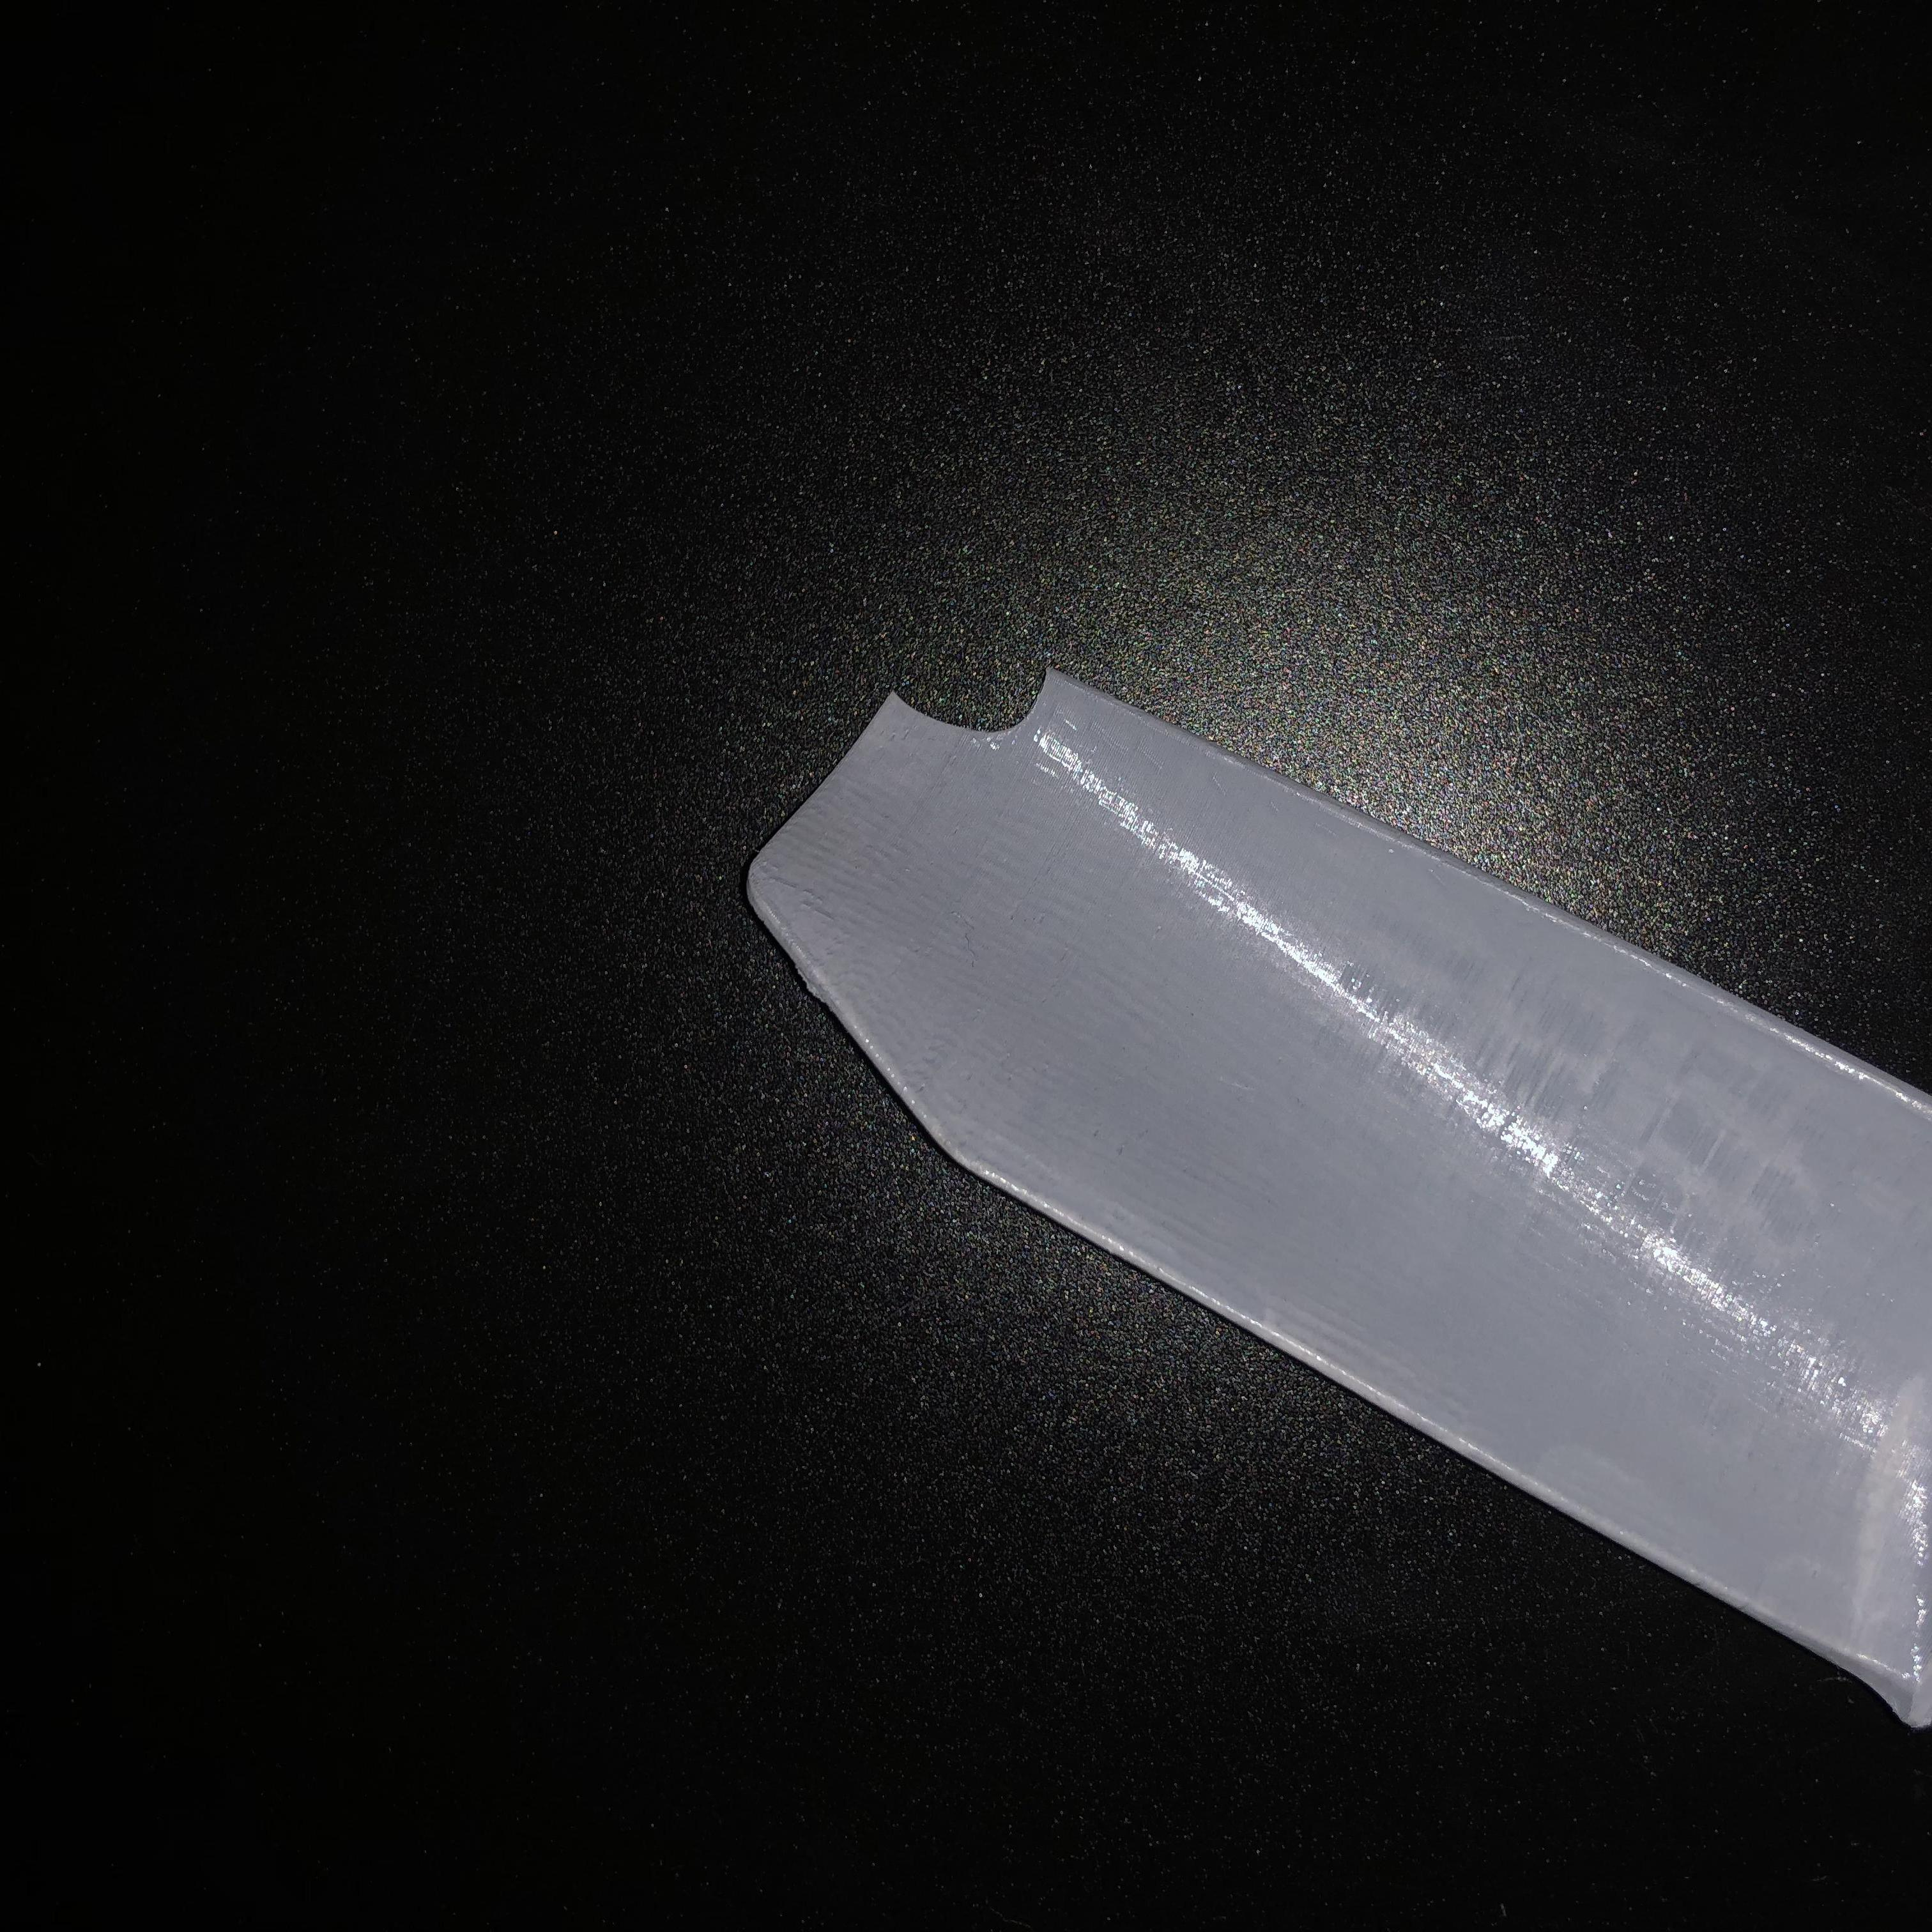fracture: (893, 662, 1079, 748)
